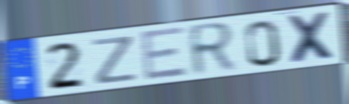0: (243, 18, 284, 68)
2: (43, 41, 87, 92)
E: (138, 25, 191, 84)
R: (186, 20, 239, 80)
X: (284, 9, 341, 65)
Z: (90, 33, 139, 87)
